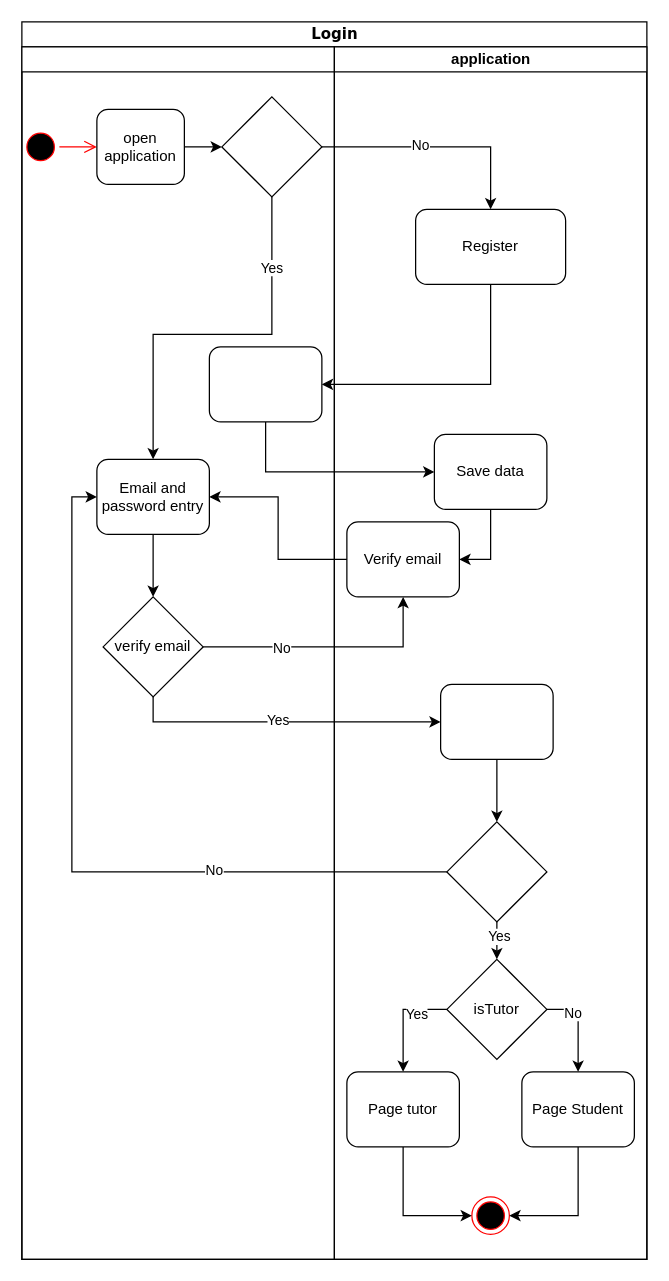
Some shapes in this 669 by 1281 pixel diagram are drawn without their labels. The box of each missing label's shape, as (x1, y1, x2, y2) in pixels:
have an account: (221, 96, 322, 197)
infor email and password entry: (208, 346, 322, 422)
user: (21, 46, 334, 1259)
valid?: (446, 821, 547, 922)
validation: (439, 683, 553, 759)
